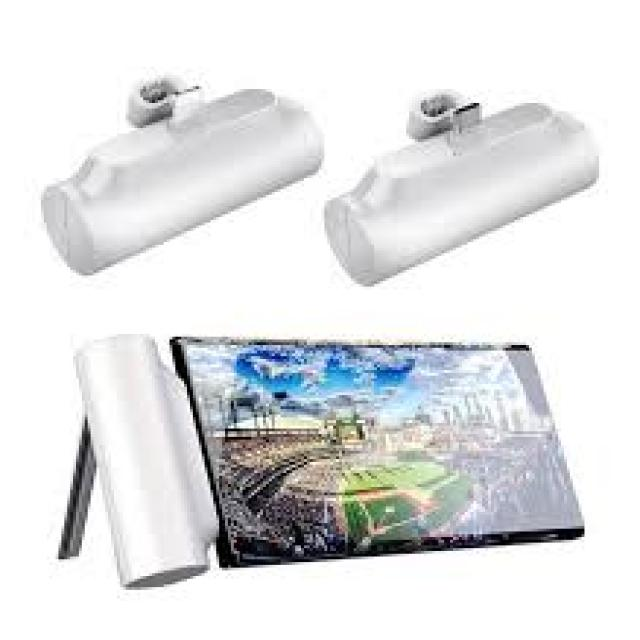power_bank: (37, 76, 332, 283), (326, 95, 598, 287), (68, 332, 226, 592)
